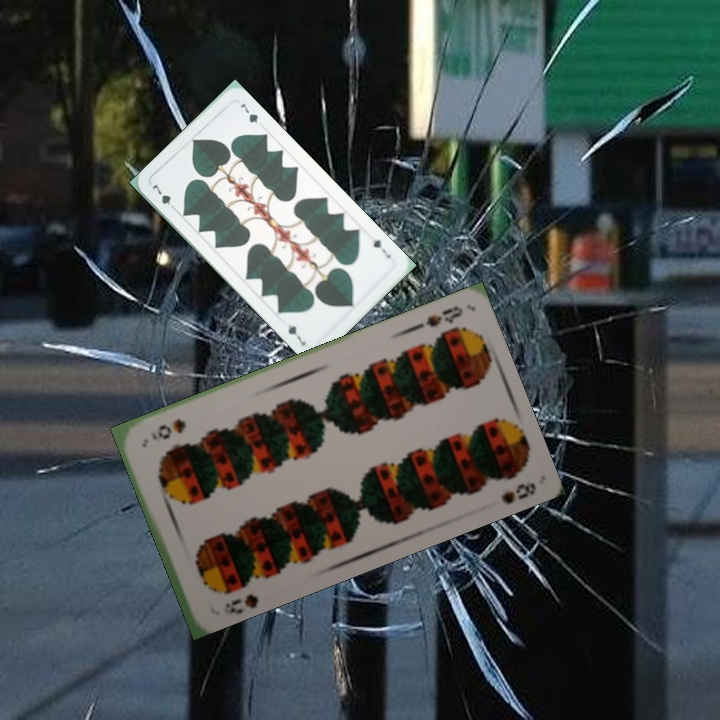G7: (148, 180, 179, 213), (369, 235, 394, 260)
S8: (408, 302, 466, 333), (219, 589, 262, 617)
